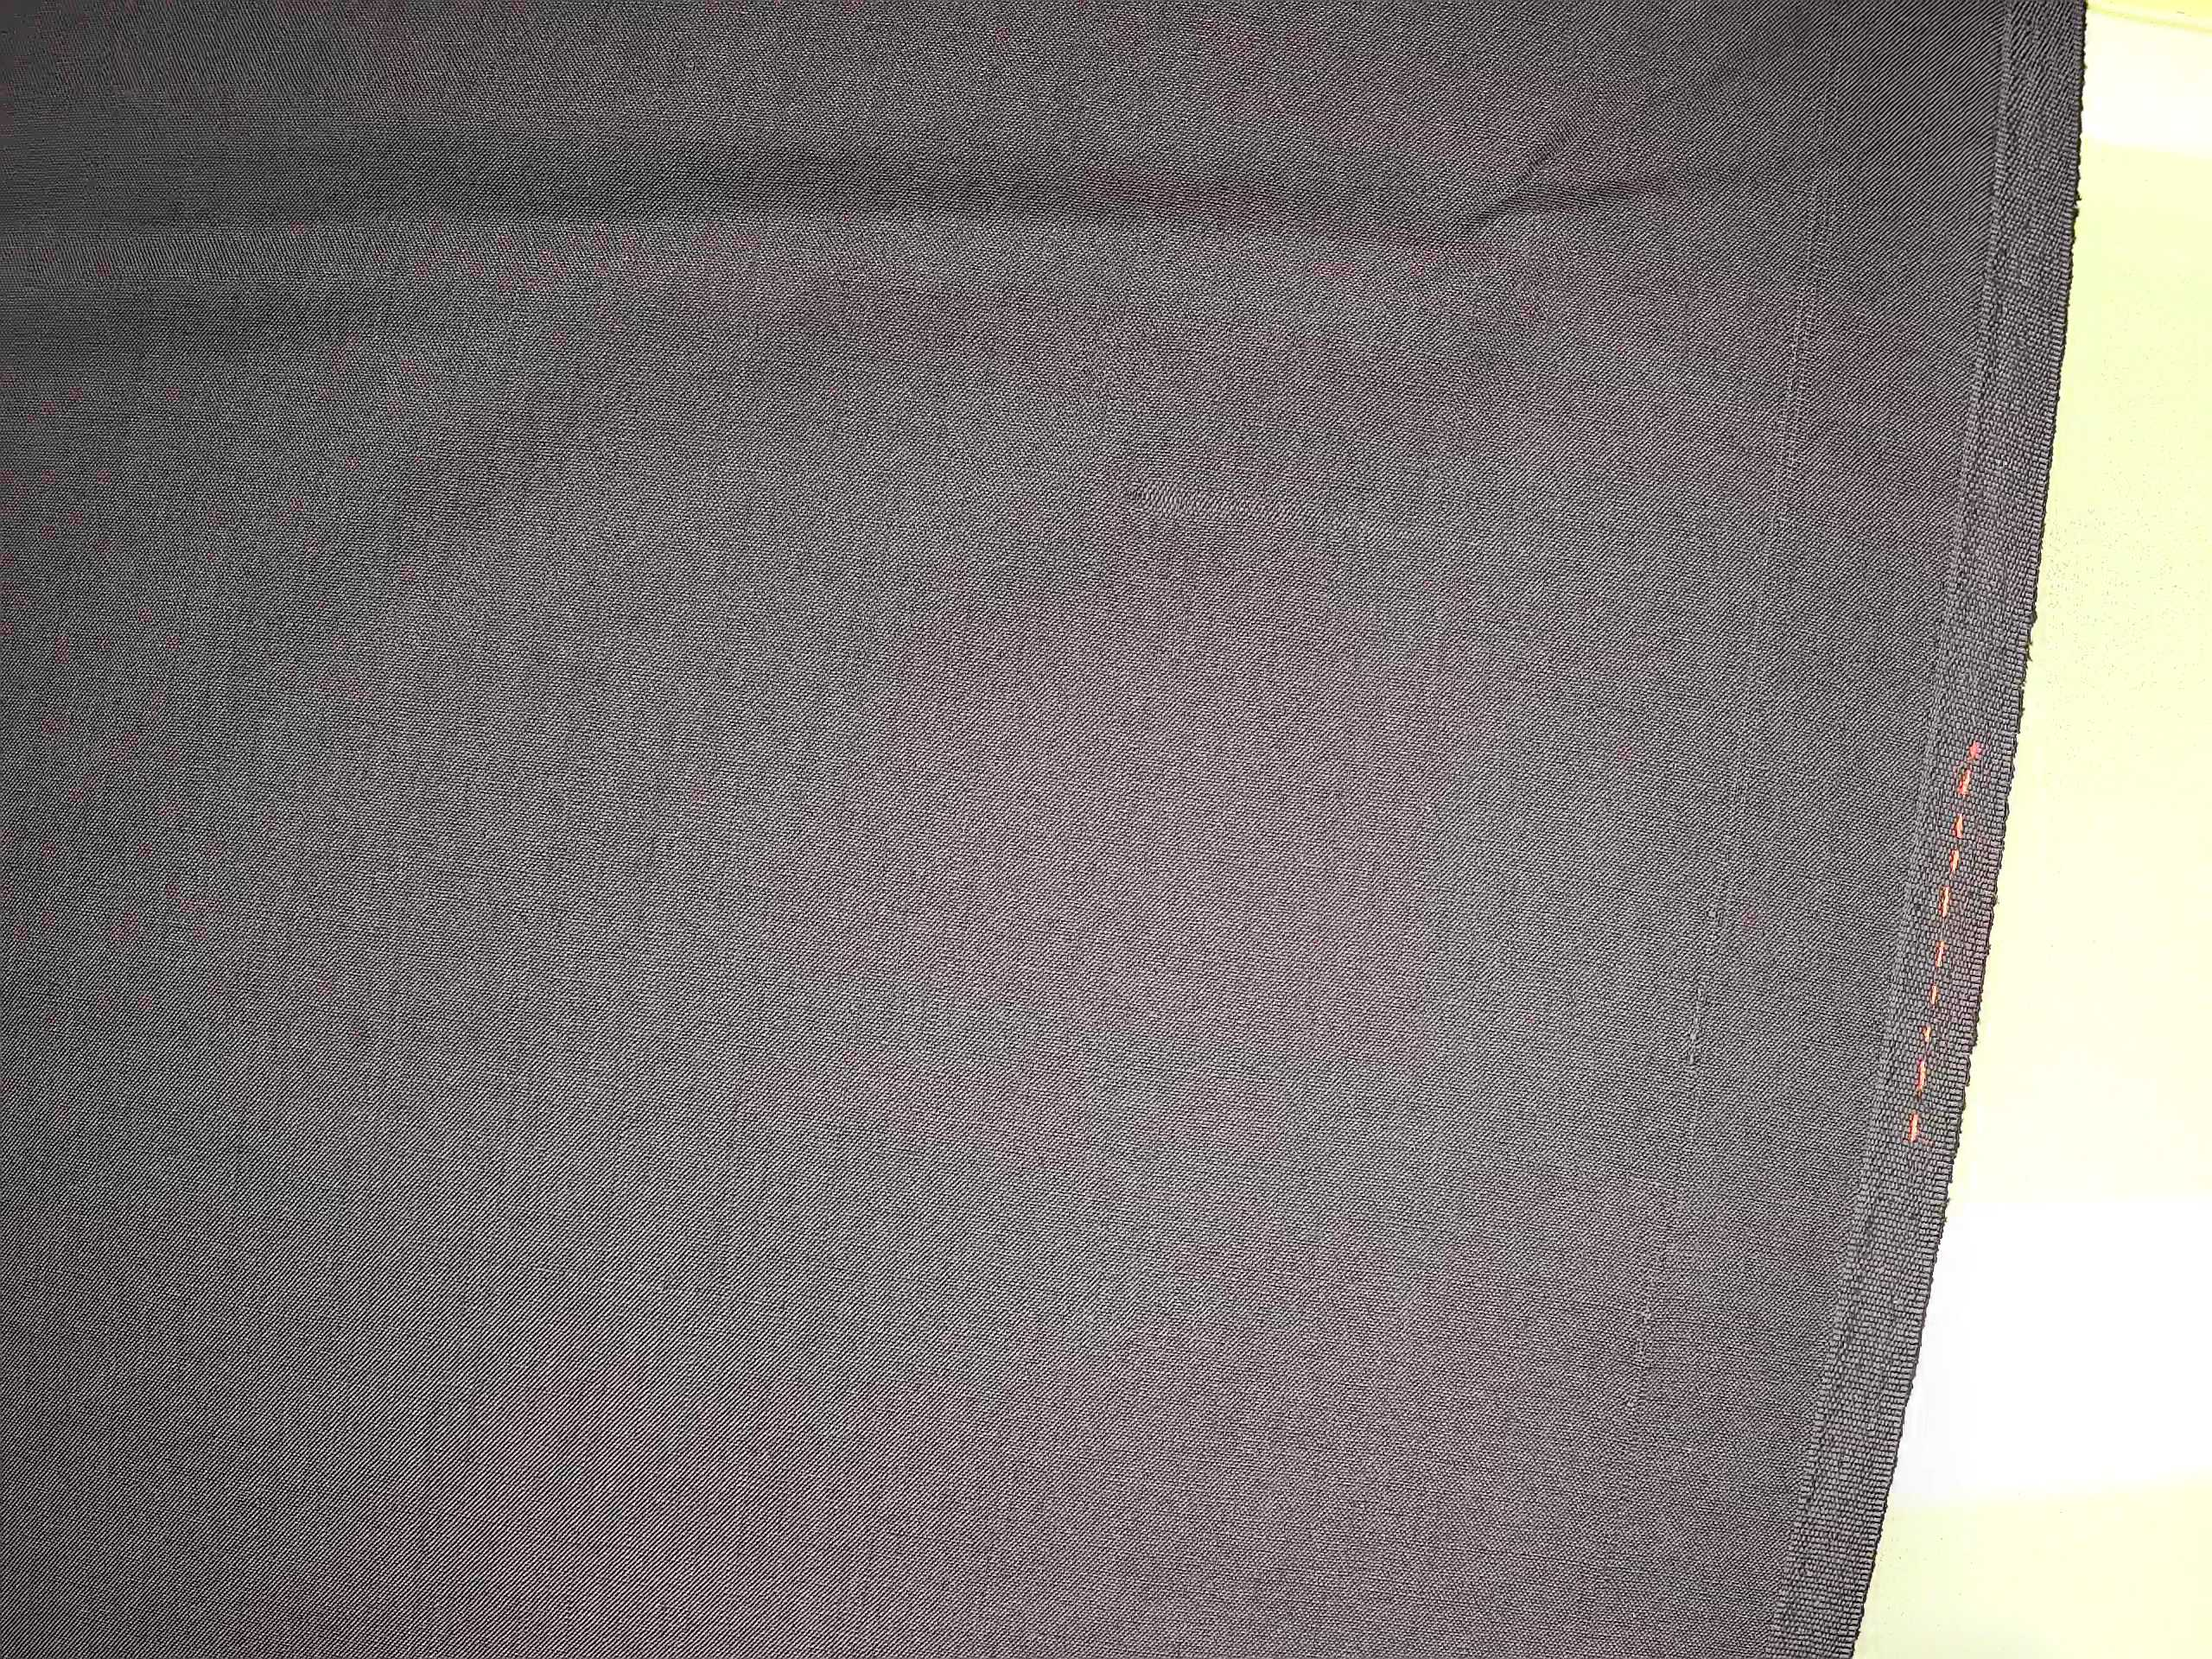others: (1599, 14, 1857, 1439)
thin-spinning: (1078, 460, 1350, 545)
